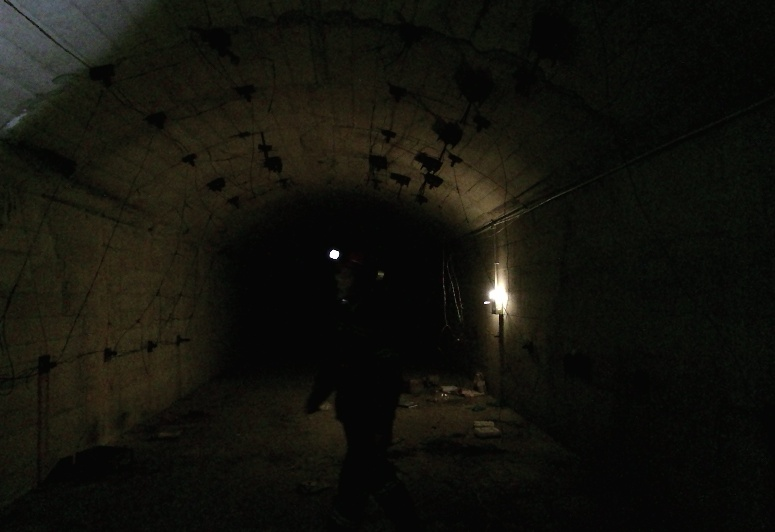person: (324, 251, 438, 532)
